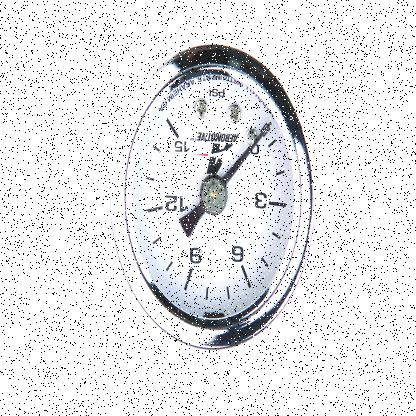needle: (222, 121, 272, 187)
